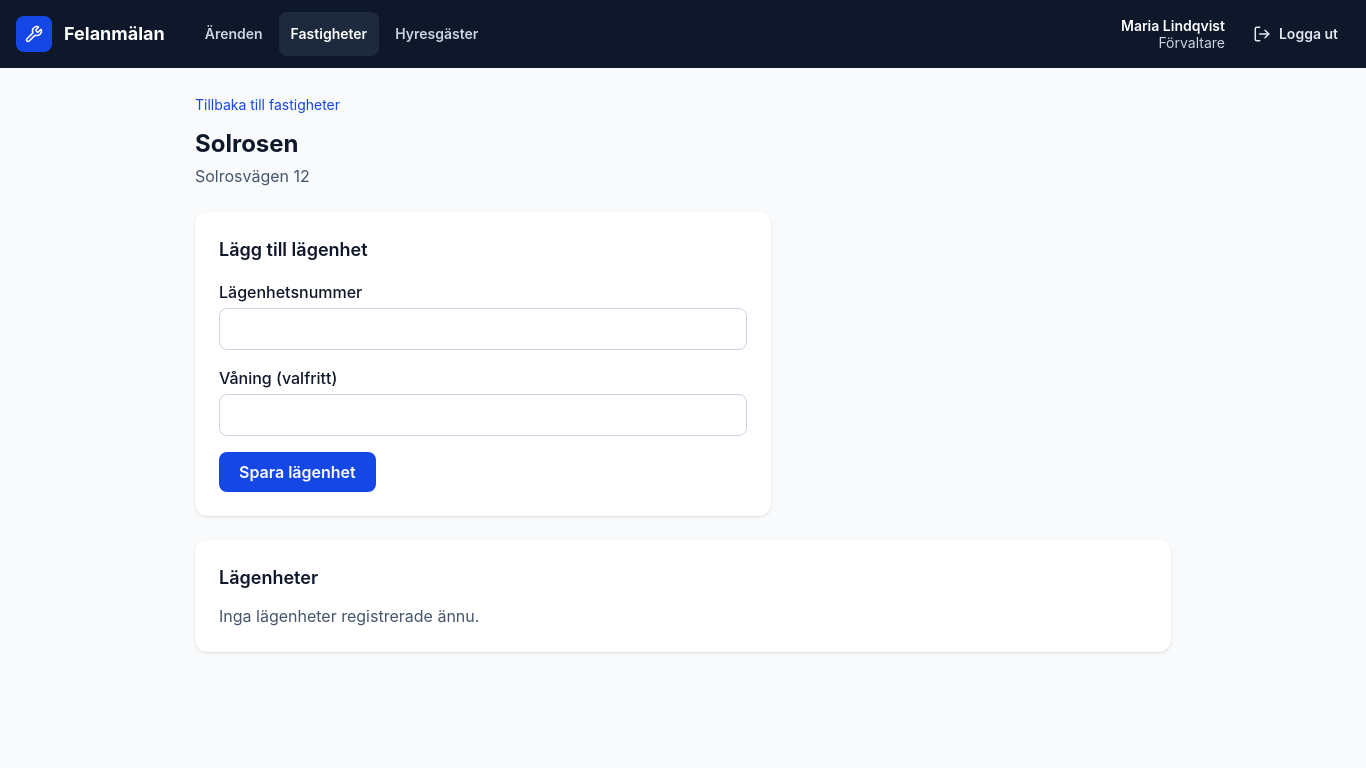
ApartmentsPage – issue #12 › sparar en lägenhet och visar den direkt utan omladdning
Expected: the text "Inga lägenheter registrerade ännu." is shown, left=219, top=606, right=479, bottom=626
Type " 1001 " into the field labelled "Lägenhetsnummer" at [483, 329], box left=219, top=308, right=747, bottom=350
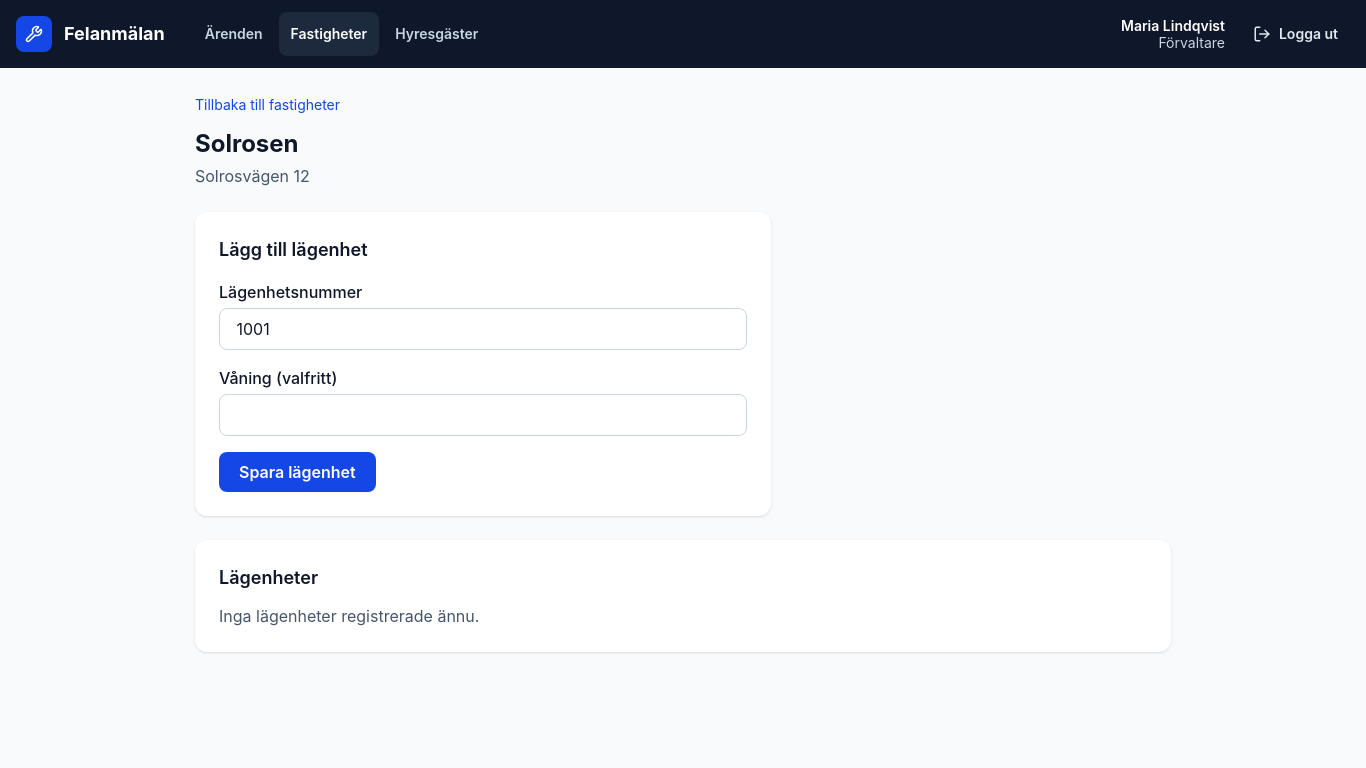
Type "0" into the number field labelled "Våning (valfritt)" at [483, 415], box left=219, top=394, right=747, bottom=436
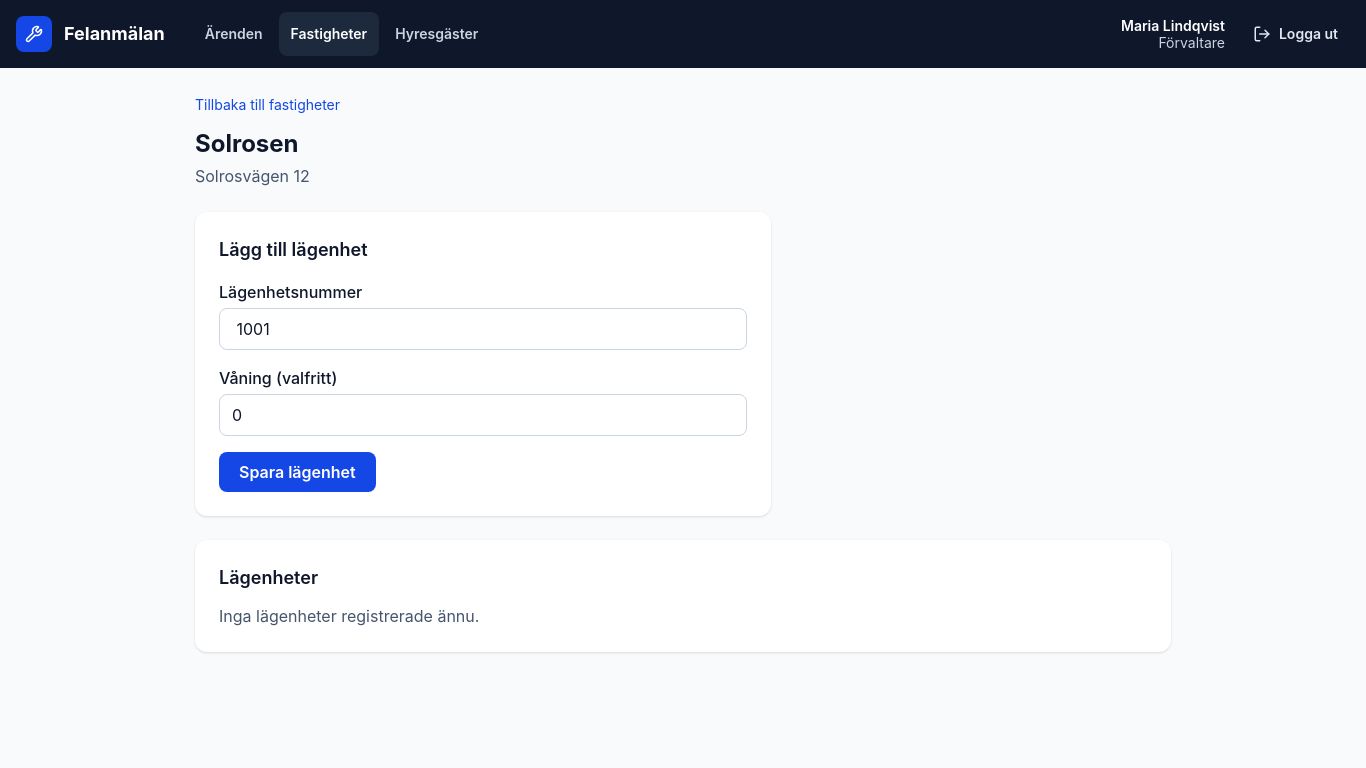
Click the button "Spara lägenhet" at [297, 472], box left=219, top=452, right=376, bottom=492
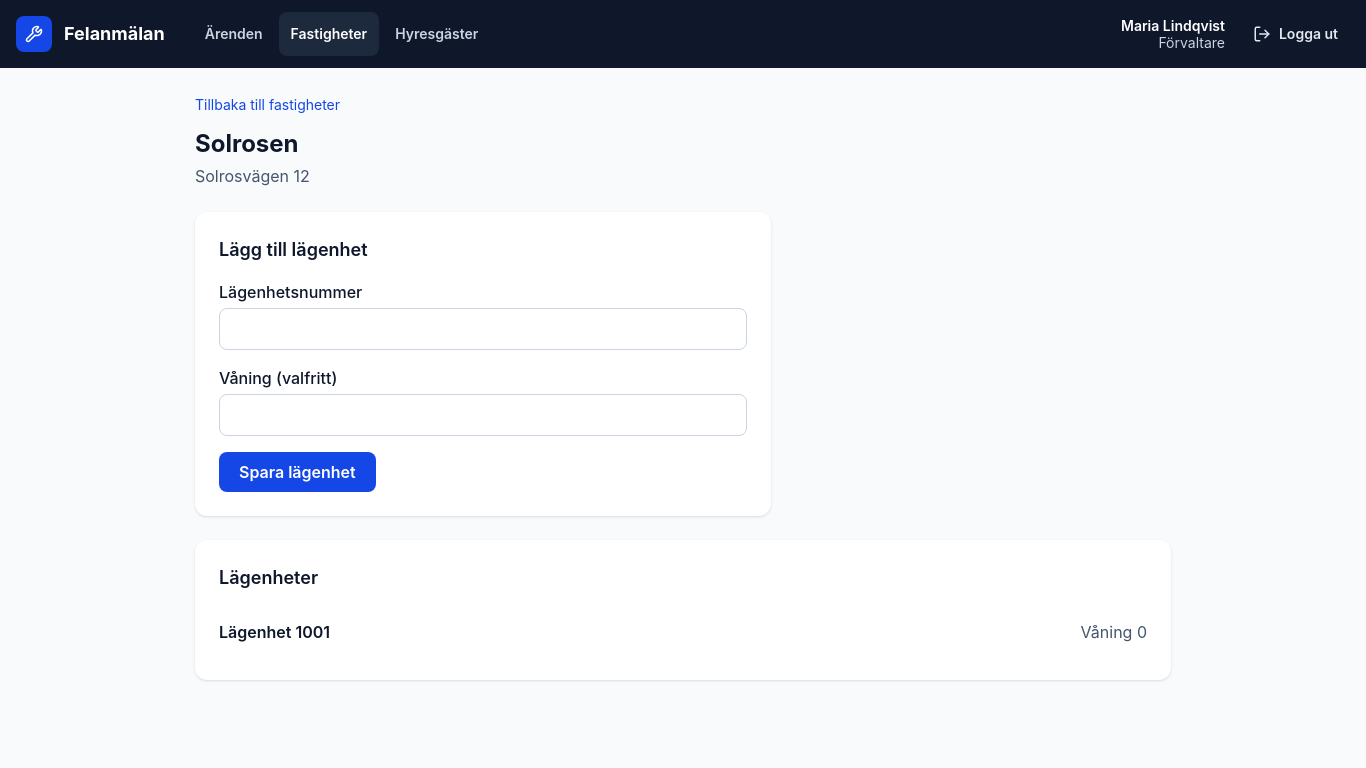
Result: the text "Lägenhet 1001" is shown at left=219, top=620, right=330, bottom=644
Result: the text "Våning 0" is shown at left=1081, top=620, right=1147, bottom=644
Result: the field labelled "Lägenhetsnummer" is empty at left=219, top=308, right=747, bottom=350
